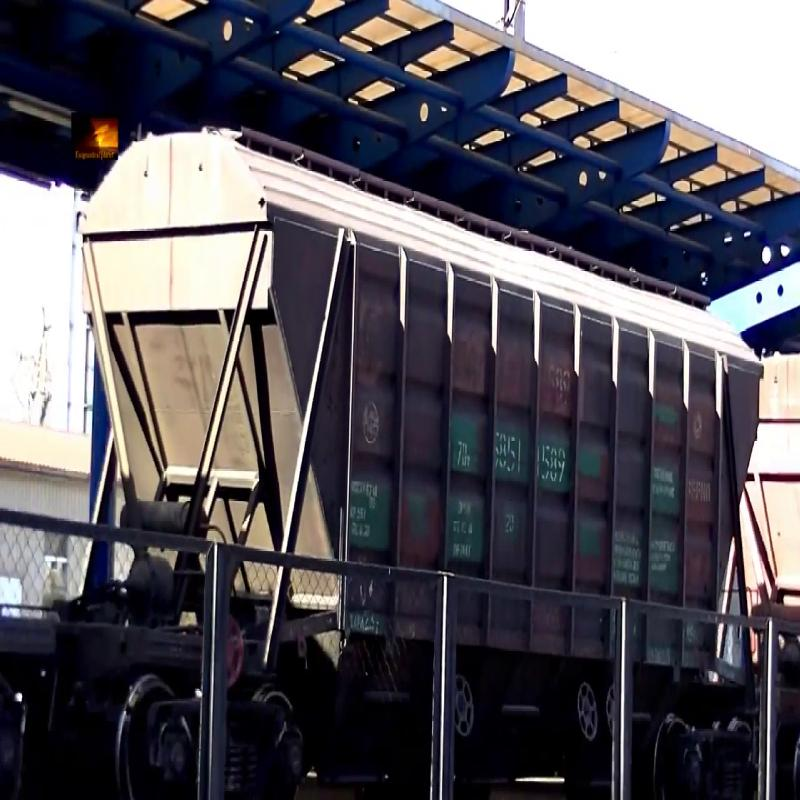train: (2, 42, 798, 781)
